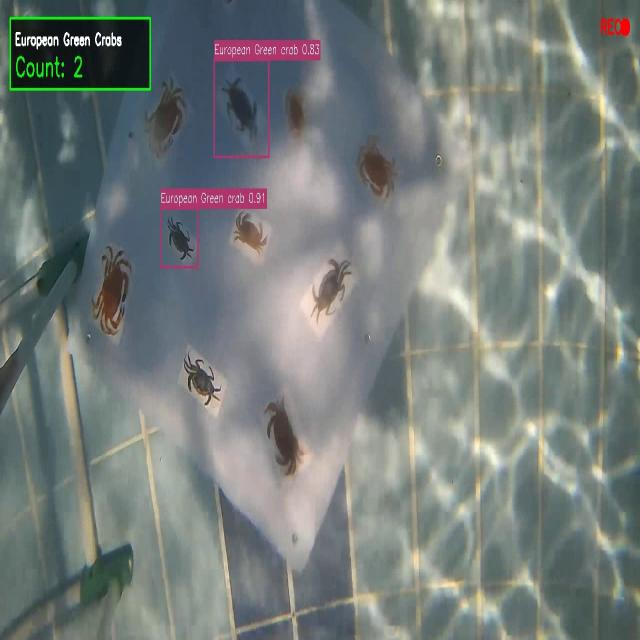European_Green_Crab: (298, 240, 360, 341), (176, 341, 226, 421), (218, 69, 266, 148), (164, 210, 196, 264)
